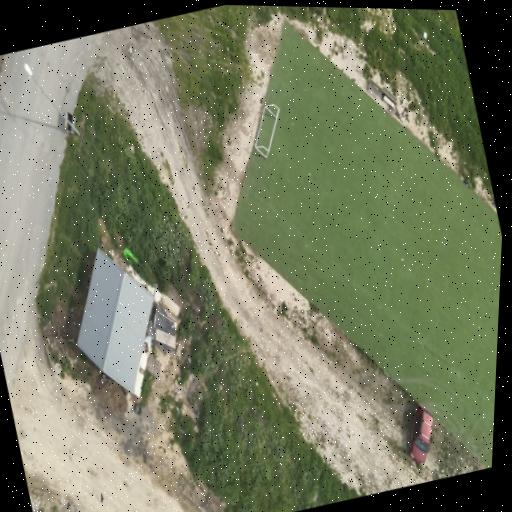car: (409, 405, 433, 464)
